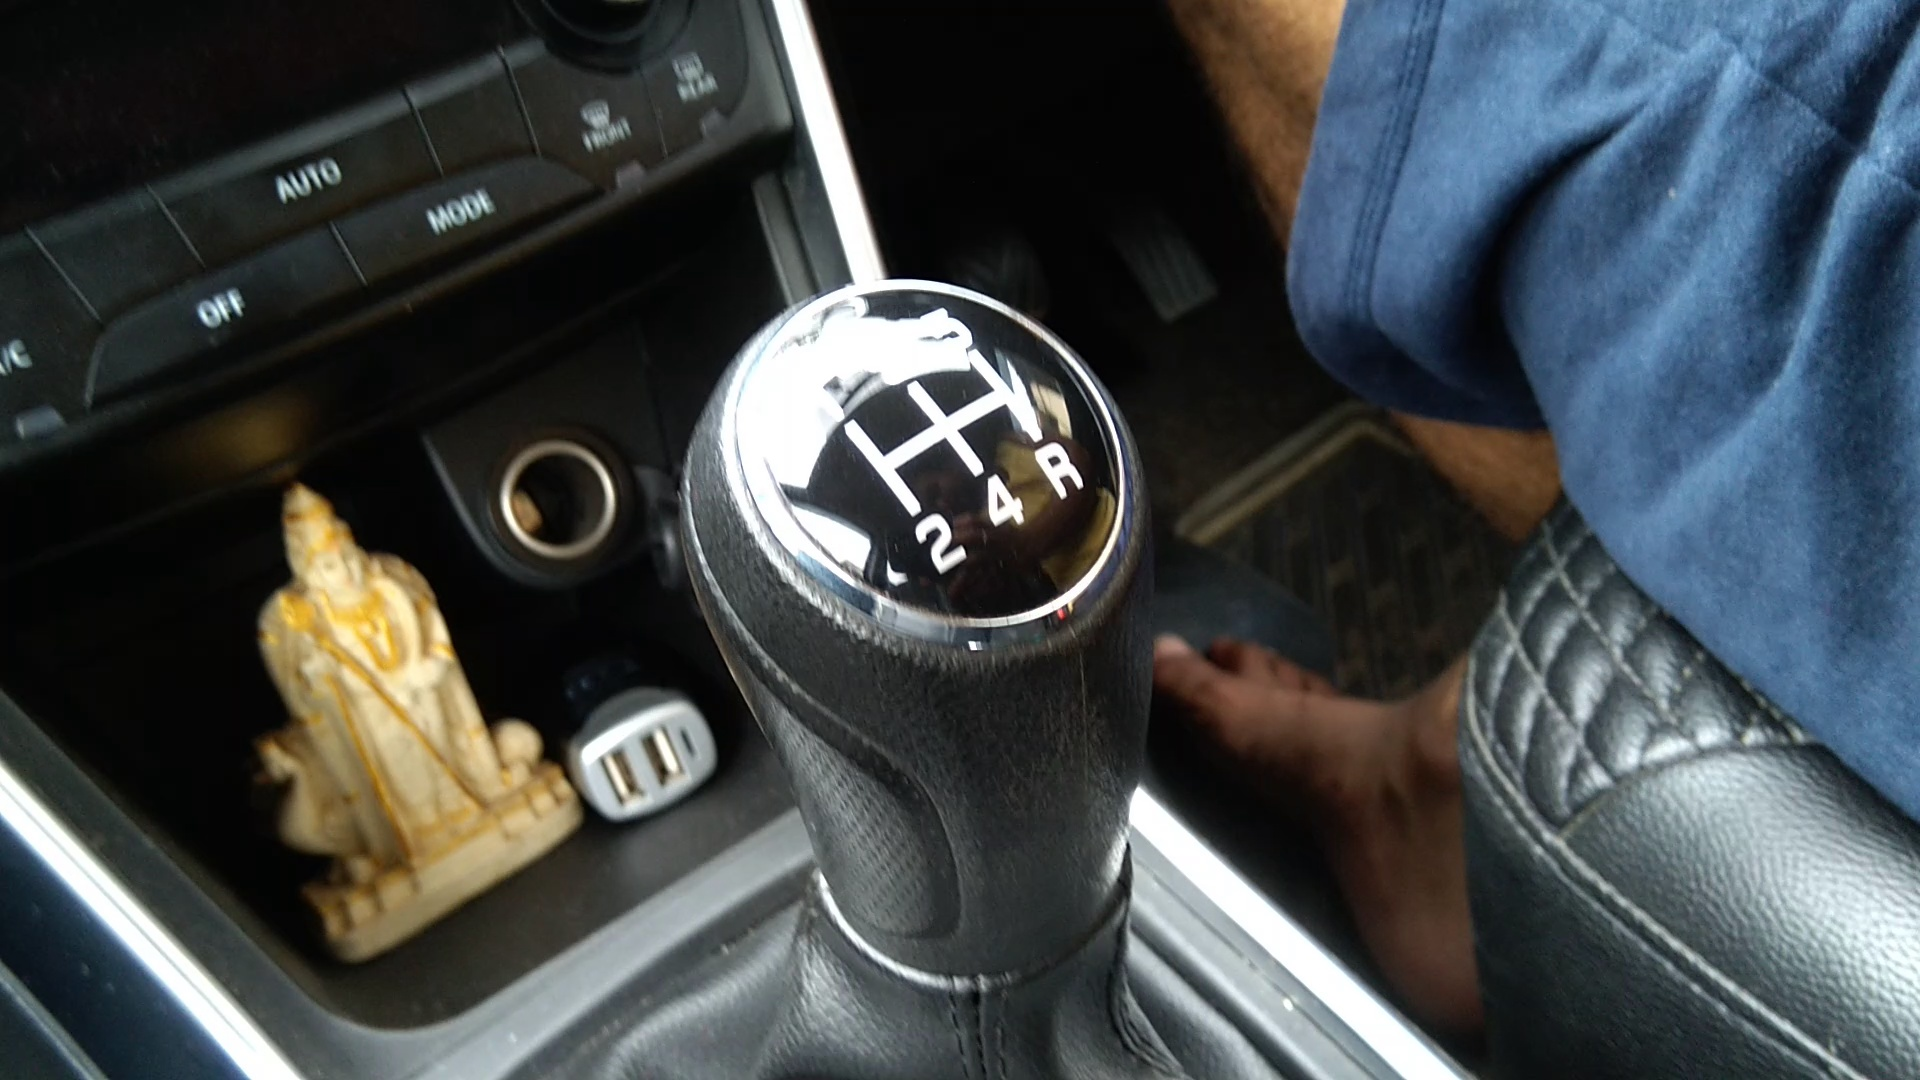manual_gear: (661, 266, 1154, 1025)
